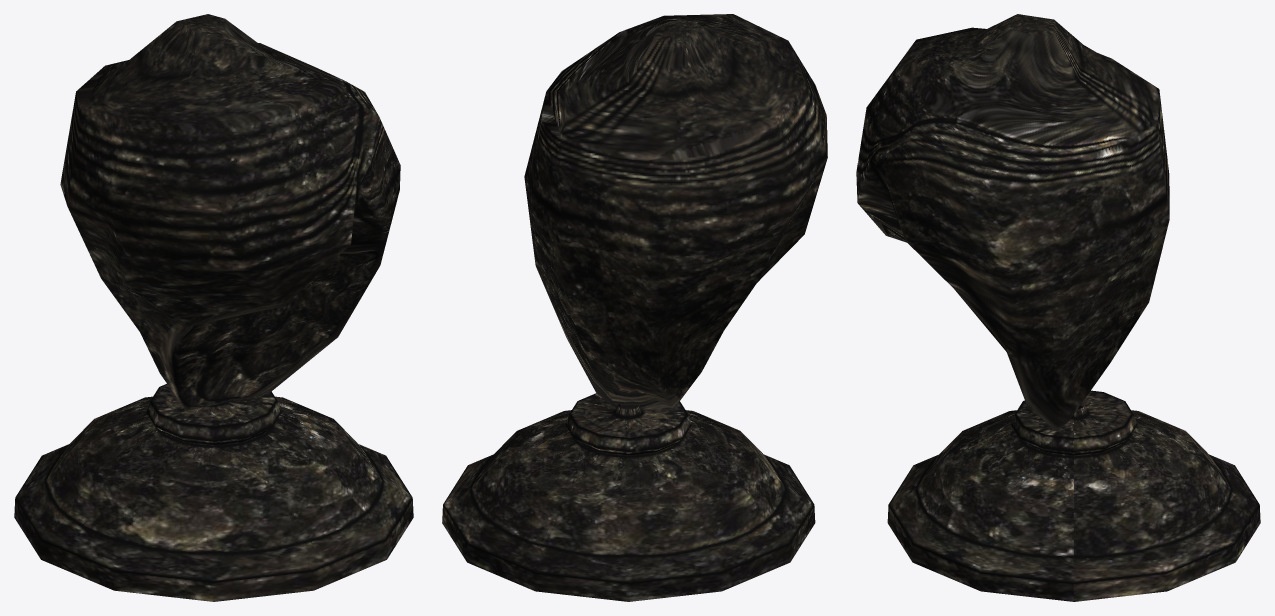
File: Sculpture.FBX
The picture shows the model from 3 angles, left to right: view 1: azimuth 30°, elevation 25°; view 2: azimuth 150°, elevation 25°; view 3: azimuth 270°, elevation 25°; orthographic projection. The views are drawn at different scales.
Visible parts, largest first — view 1: Sculpture; view 2: Sculpture; view 3: Sculpture.
Part boxes in pixels (x1,y1,x2,y2): Sculpture: (14, 14, 413, 601); Sculpture: (442, 14, 827, 601); Sculpture: (856, 14, 1260, 601).
Bounding box in the file's own units: 21.4 × 23.19 × 30.84.
